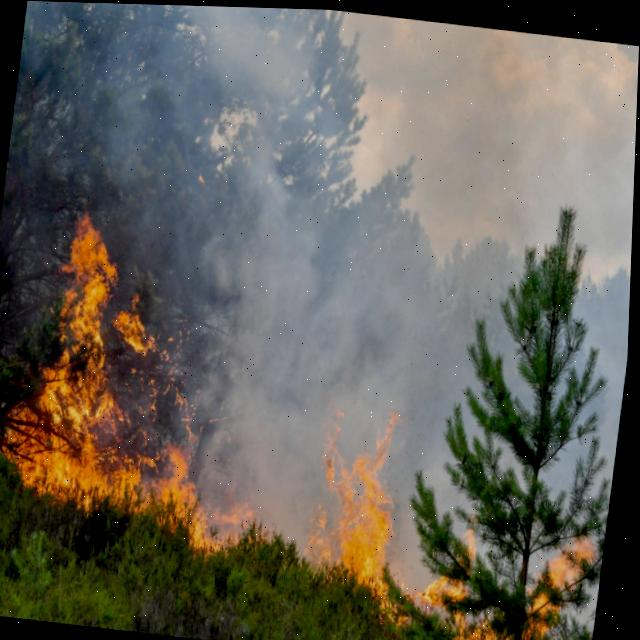fire: (0, 205, 210, 538), (327, 462, 401, 589)
smoke: (155, 4, 639, 234), (199, 130, 360, 520), (335, 210, 471, 449)
